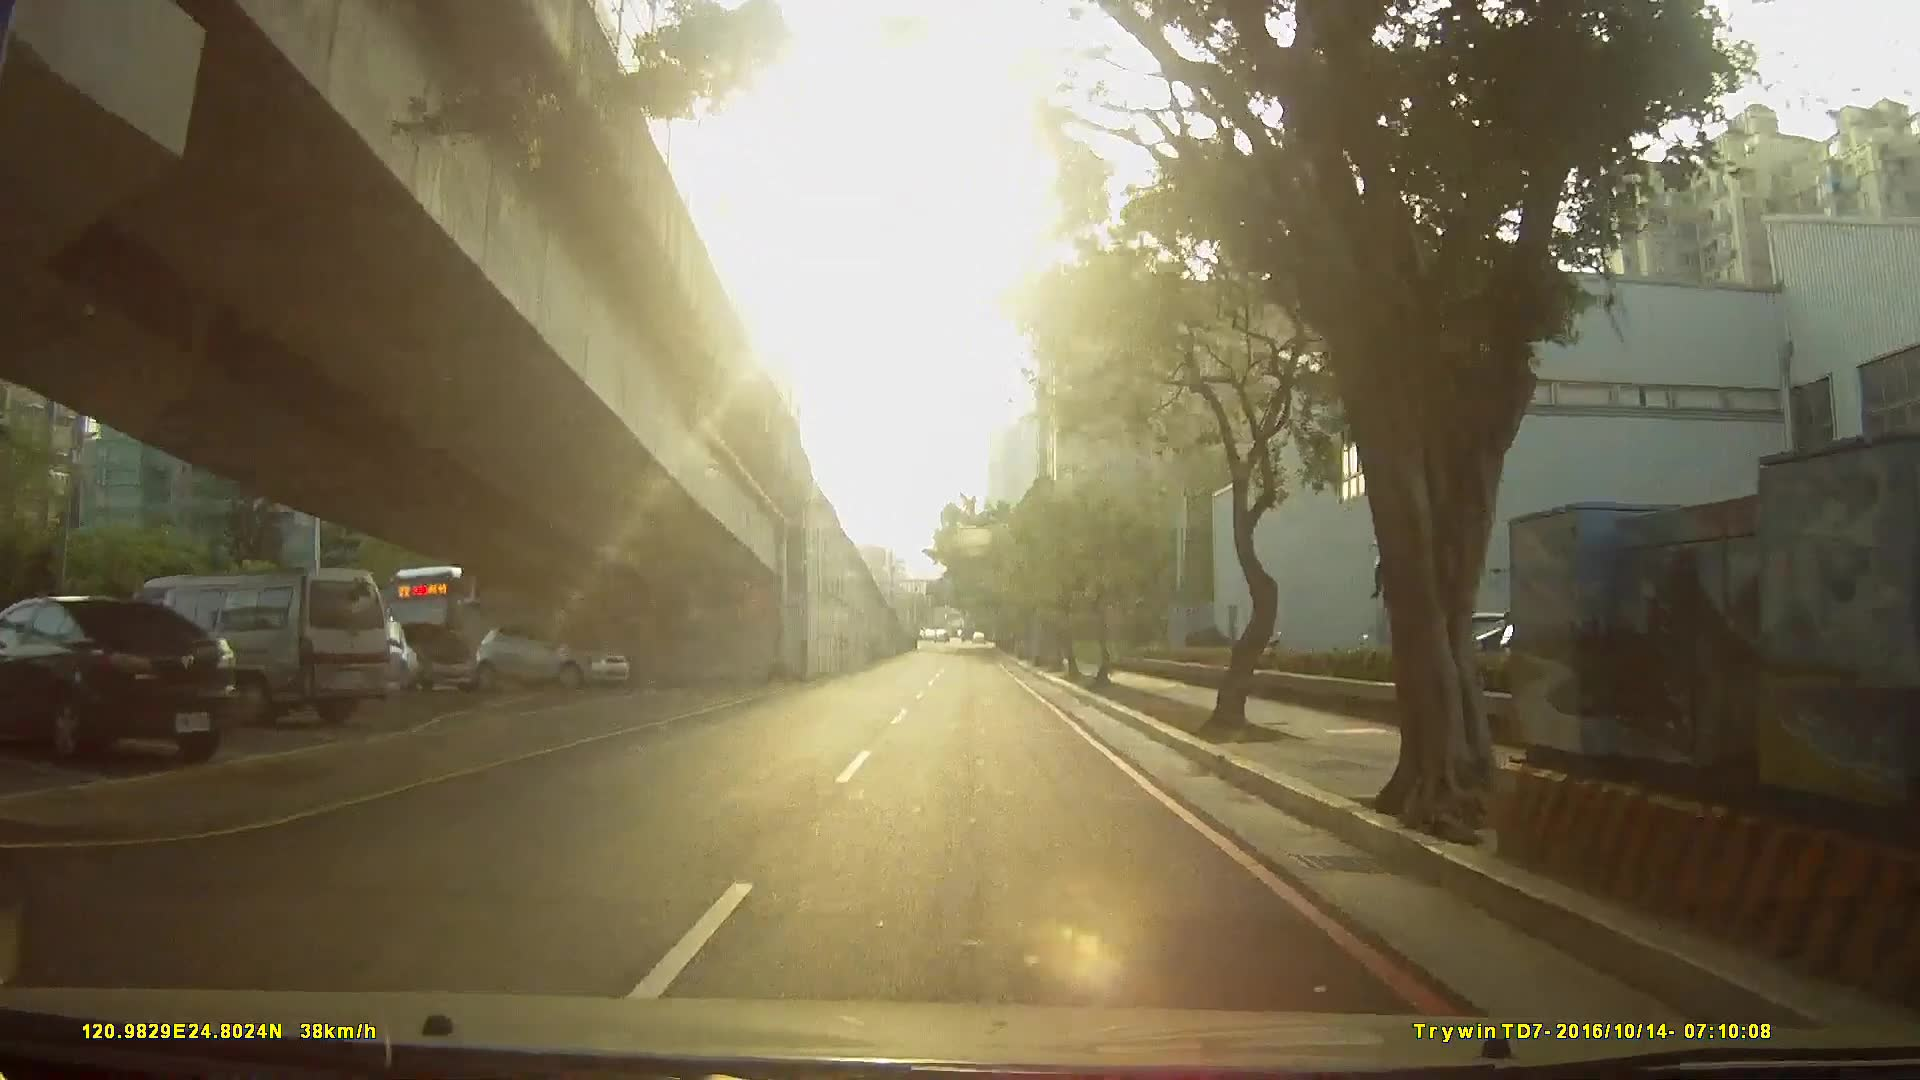vehicle: (1, 588, 273, 773), (88, 566, 380, 735), (372, 564, 563, 688), (467, 622, 628, 696), (357, 620, 475, 698)
